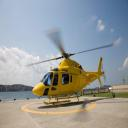helicopter: (22, 26, 118, 110)
